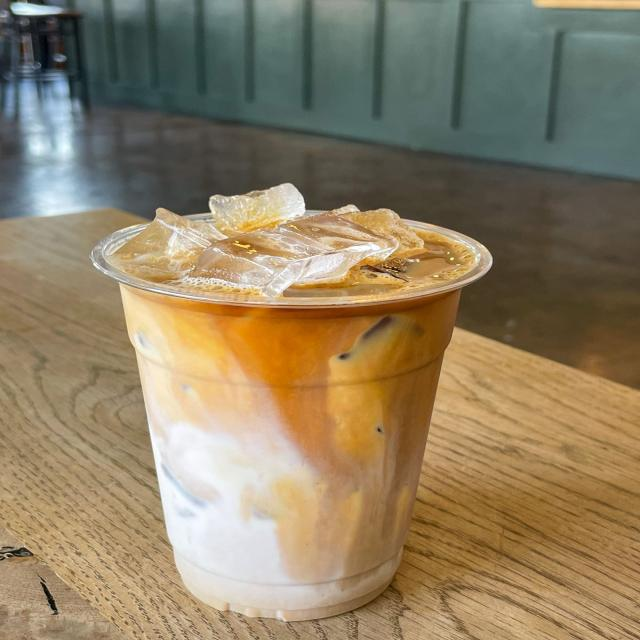plastic cup: (91, 182, 493, 622)
